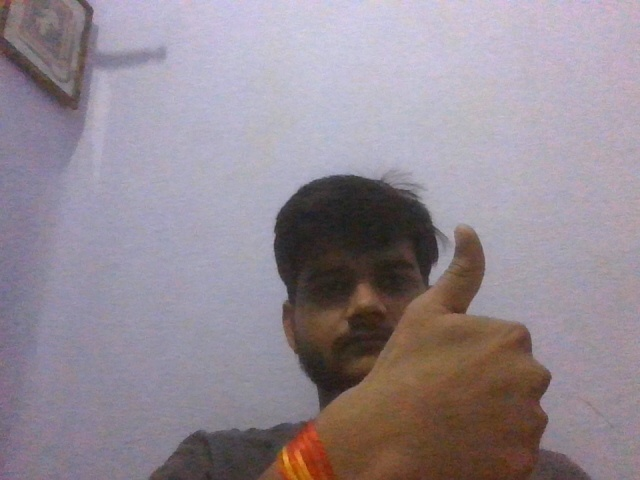thanks: (344, 214, 573, 480)
